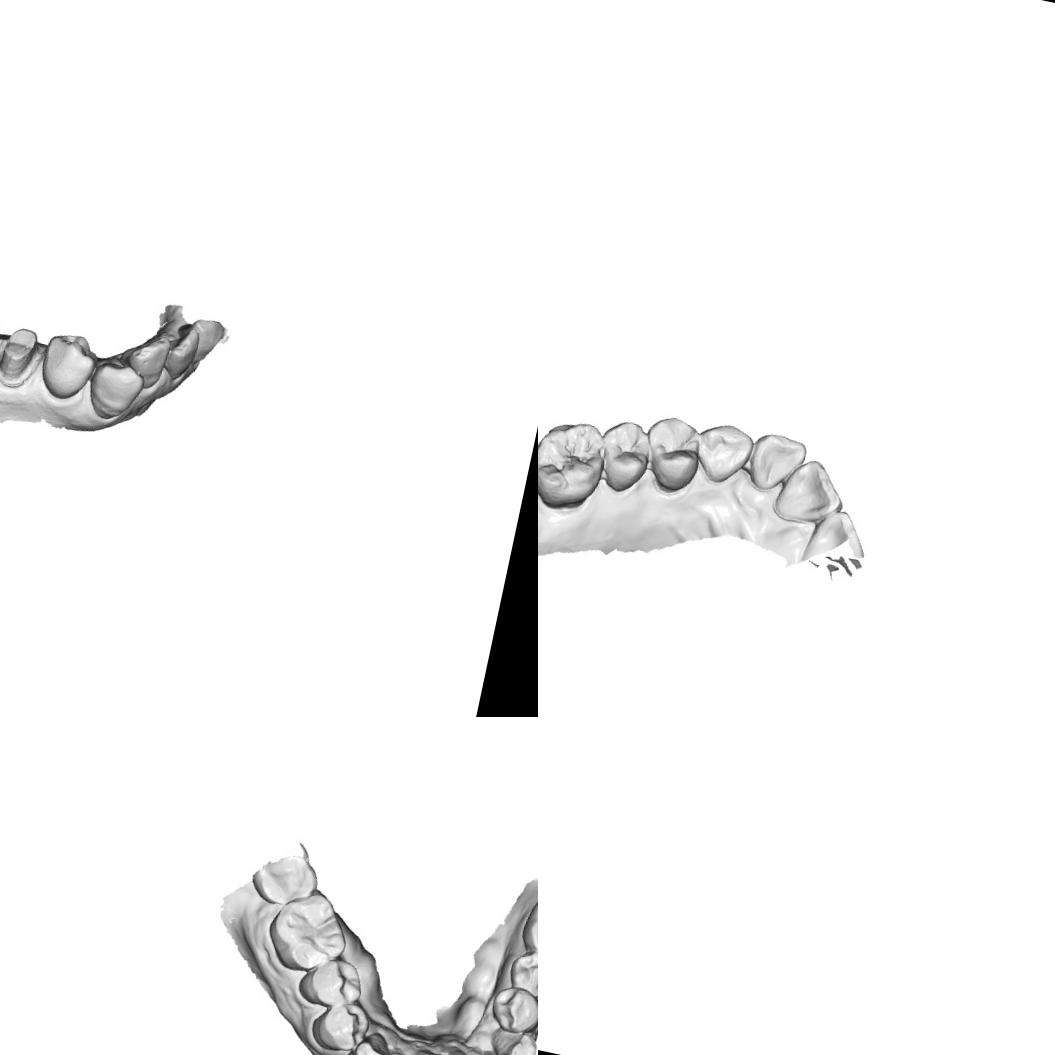canine: (689, 417, 758, 491), (84, 358, 146, 425), (338, 1025, 404, 1055), (482, 1024, 538, 1055)
crown: (0, 313, 48, 395)
incisor: (771, 452, 851, 542), (801, 503, 871, 574), (743, 429, 810, 499), (121, 328, 172, 391), (160, 324, 202, 381), (187, 316, 227, 363), (407, 1043, 457, 1055)
molar: (259, 882, 357, 980), (538, 412, 612, 517), (247, 845, 323, 913), (515, 889, 538, 969)
premolar: (636, 411, 706, 499), (34, 328, 102, 408), (594, 415, 656, 498), (293, 950, 370, 1016), (305, 995, 374, 1055), (485, 981, 538, 1038), (504, 947, 538, 1001)
